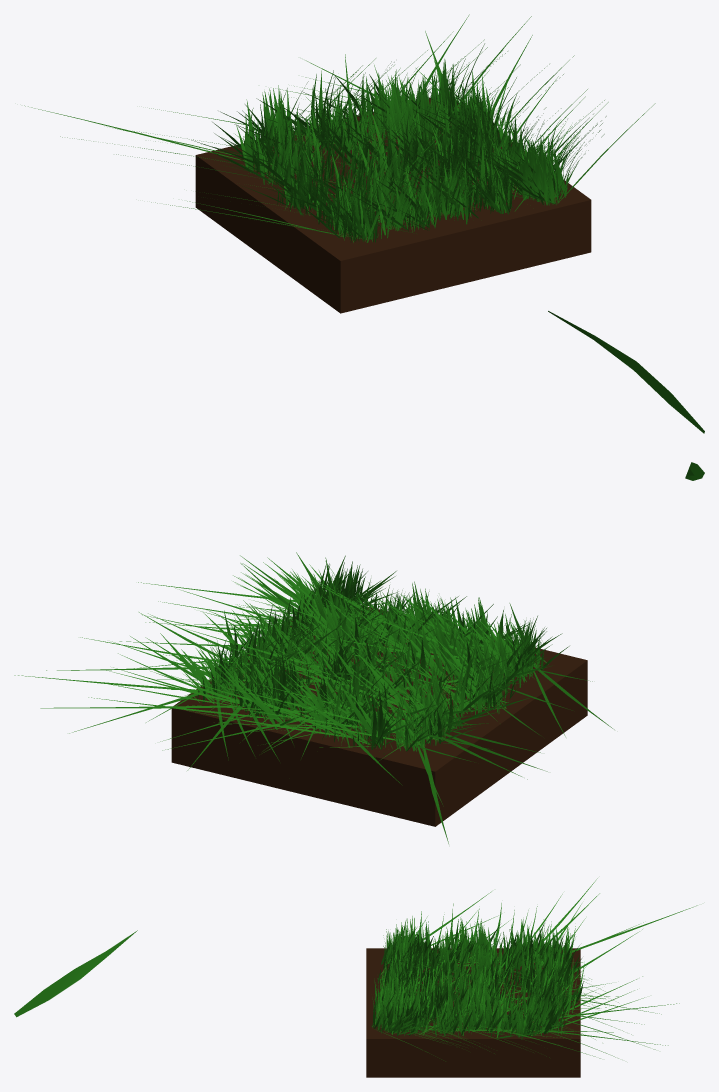
The model's file is Grass.fbx.
The picture shows the model from 3 angles, top to bottom: view 1: azimuth 30°, elevation 25°; view 2: azimuth 150°, elevation 25°; view 3: azimuth 270°, elevation 25°; orthographic projection. The views are drawn at different scales.
Parts seen in each view (by area): view 1: Cube, grass; view 2: Cube; view 3: Cube, grass.
Boxes of the visible parts, x1,y1,x2,y2 form: Cube: (195, 97, 591, 313); grass: (548, 311, 704, 433); Cube: (171, 605, 587, 826); Cube: (366, 948, 580, 1077); grass: (14, 930, 137, 1017).
Size of the model in its own units: 395 by 83.43 by 645.
